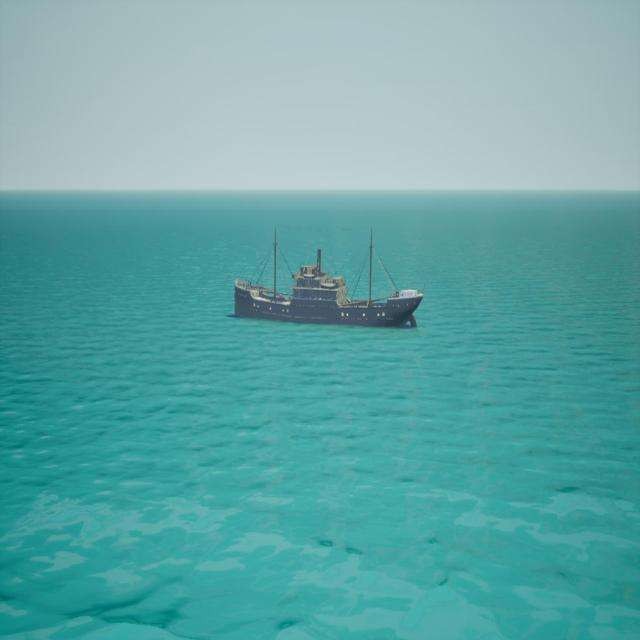fishing ship: (234, 228, 426, 328)
